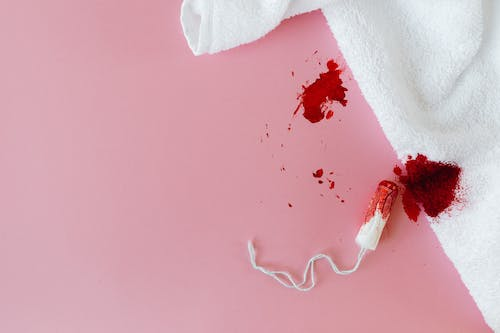blood: (259, 47, 353, 210), (392, 151, 476, 227), (361, 177, 400, 227)
